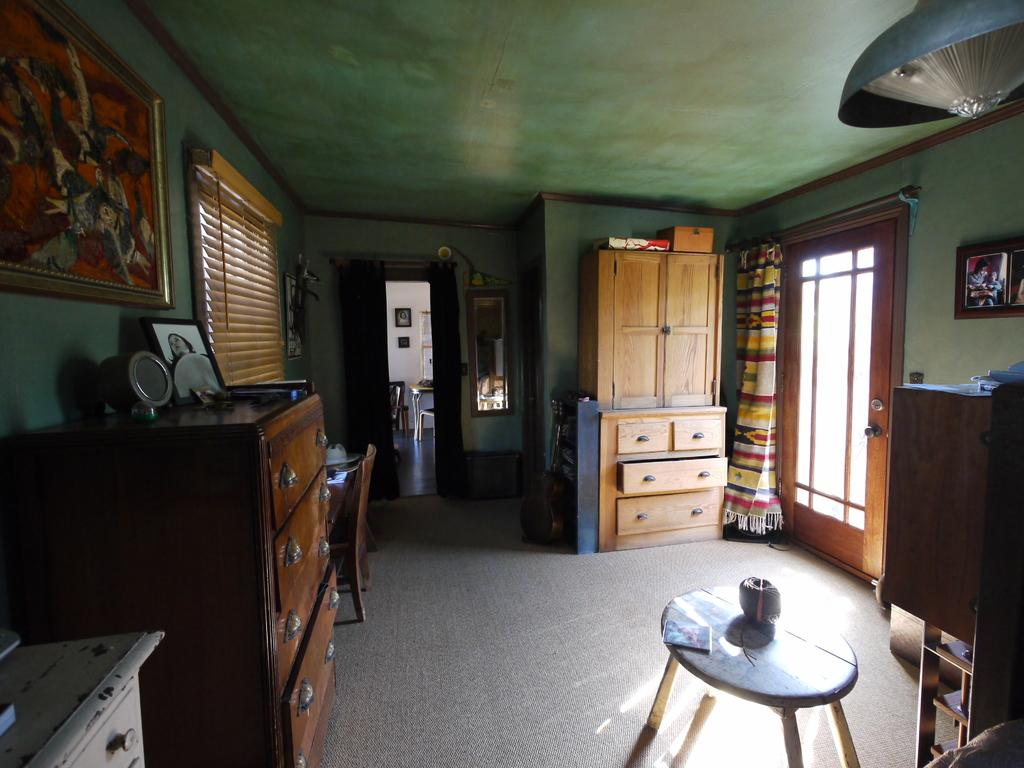cabinet_door: (279, 602, 347, 730), (270, 490, 338, 596), (618, 259, 664, 404), (670, 269, 714, 403), (269, 420, 331, 504), (623, 458, 728, 488), (620, 496, 716, 525), (670, 415, 722, 449), (617, 424, 673, 452)
handle: (105, 728, 145, 758), (278, 459, 302, 494), (296, 674, 318, 712), (284, 609, 306, 642), (290, 536, 308, 570), (308, 424, 328, 450), (638, 467, 658, 488), (318, 478, 332, 507), (328, 586, 343, 610), (318, 536, 334, 558), (695, 464, 713, 482), (692, 495, 706, 517), (865, 424, 879, 445), (690, 428, 708, 443), (637, 428, 651, 446), (635, 506, 647, 522)
